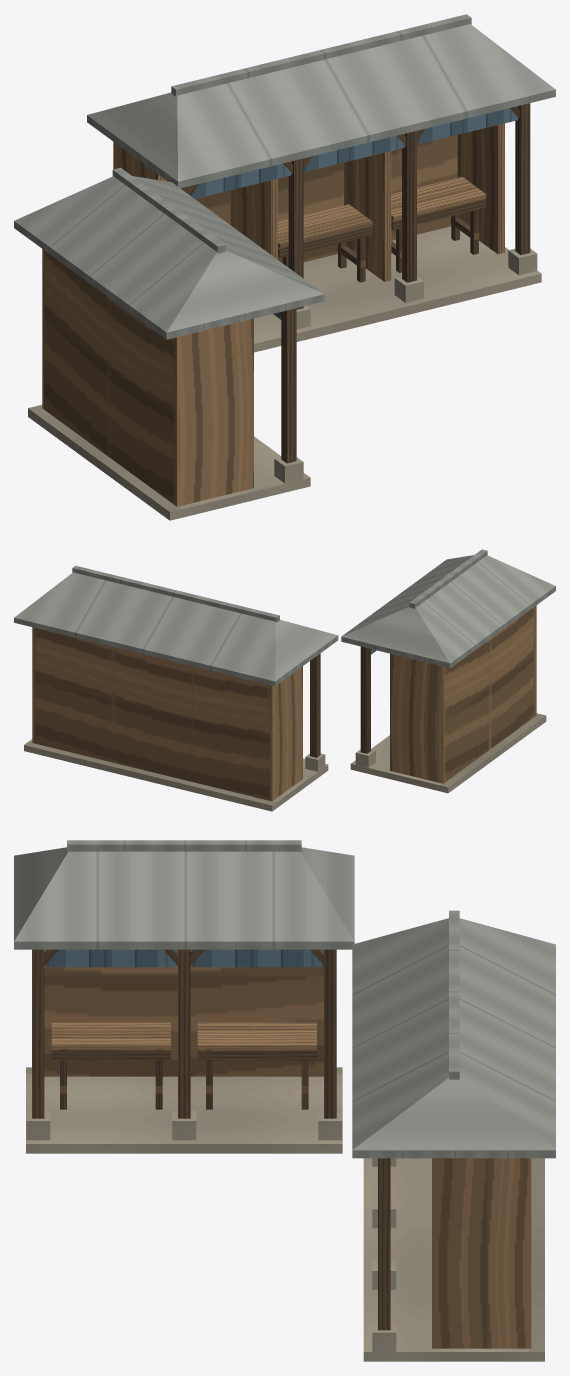
File: monaco.glb
The picture shows the model from 3 angles, top to bottom: view 1: azimuth 30°, elevation 25°; view 2: azimuth 150°, elevation 25°; view 3: azimuth 270°, elevation 25°; orthographic projection. The views are drawn at different scales.
Parts seen in each view (by area): view 1: monaco; view 2: monaco; view 3: monaco.
Boxes of the visible parts, x1,y1,x2,y2 form: monaco: (14,14,555,520); monaco: (14,549,555,811); monaco: (14,840,555,1361).
Size of the model in its own units: 5.79 by 2.5 by 4.5.
1 material, 1 textured.
